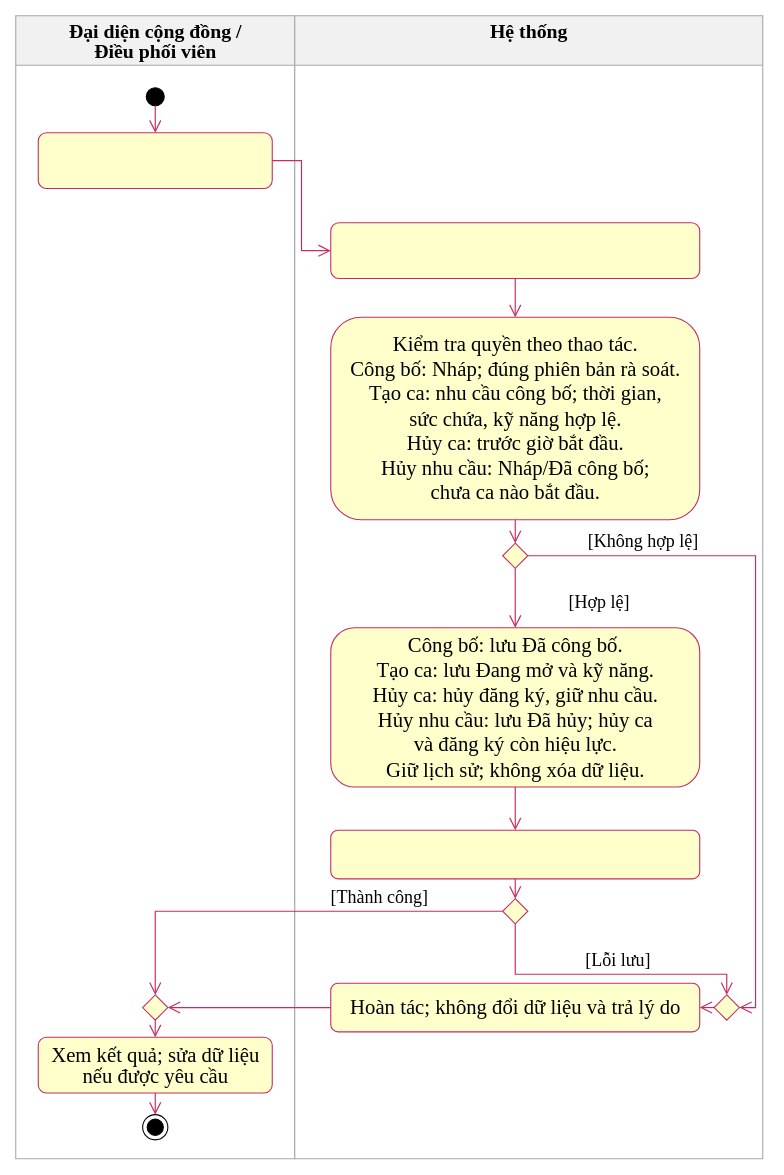
This 784x1175 diagram has some shape labels left out. The box of each missing label's shape, as (x1, y1, x2, y2) in pixels:
Bắt đầu giao dịch; khóa và đọc dữ liệu liên quan: (330, 222, 700, 279)
Chọn công bố, tạo ca hoặc hủy nhu cầu/ca: (37, 132, 272, 189)
Xác nhận giao dịch của thao tác: (330, 829, 700, 879)
